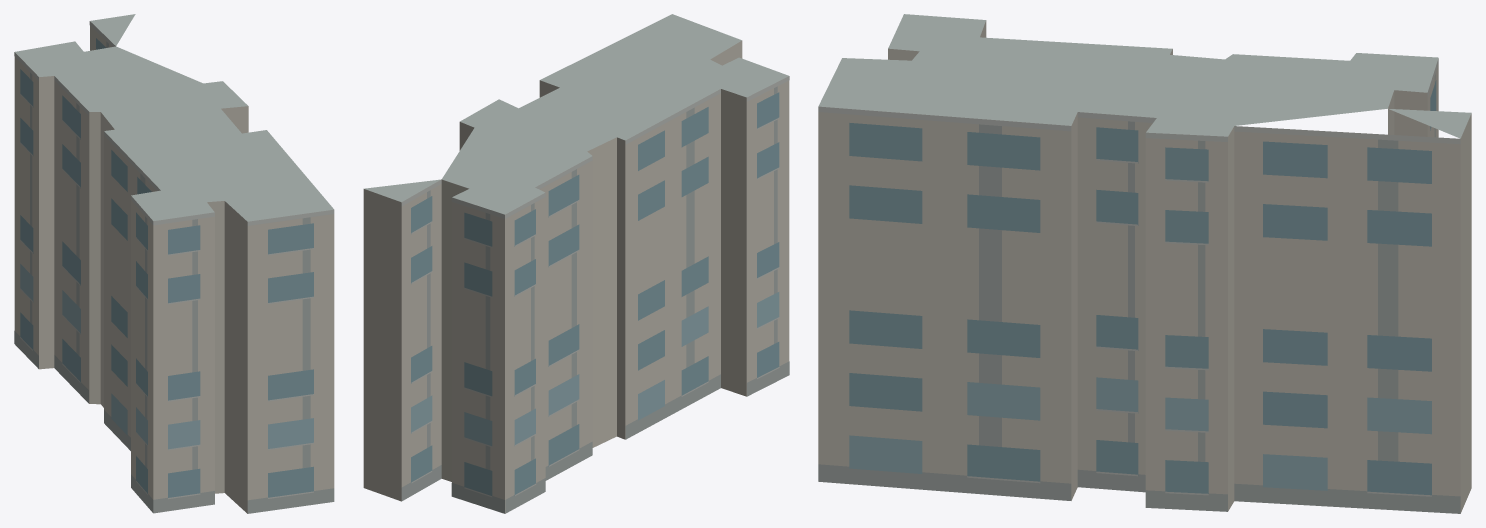
The model's file is survey-upis-32561993.glb.
3 views of the same model, side by side, from view 1: azimuth 30°, elevation 25°; view 2: azimuth 150°, elevation 25°; view 3: azimuth 270°, elevation 25° (orthographic). The views are drawn at different scales.
Visible parts, largest first — view 1: survey-upis-32561993.tmp; view 2: survey-upis-32561993.tmp; view 3: survey-upis-32561993.tmp.
Boxes of the visible parts, x1,y1,x2,y2 form: survey-upis-32561993.tmp: (14, 14, 334, 513); survey-upis-32561993.tmp: (363, 14, 789, 513); survey-upis-32561993.tmp: (818, 14, 1471, 513).
Size of the model in its own units: 11.85 by 16.6 by 26.21.
